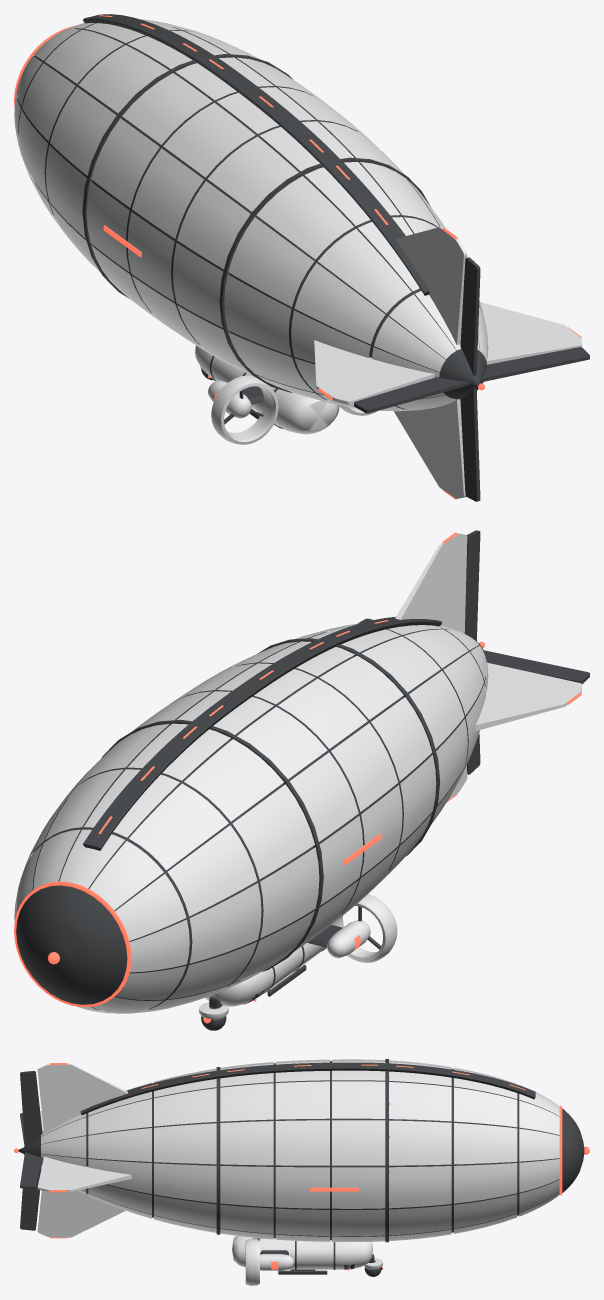
File: dirigible.glb
3 views of the same model, one above another, from view 1: azimuth 30°, elevation 25°; view 2: azimuth 150°, elevation 25°; view 3: azimuth 270°, elevation 25° (orthographic). The views are drawn at different scales.
Visible parts, largest first — view 1: cell_2, cell_1, cell_0, core; view 2: cell_0, cell_1, cell_2, core; view 3: cell_1, cell_2, cell_0, core.
Part boxes in pixels (x1,y1,x2,y2): cell_2: (224, 157, 589, 501); cell_1: (86, 53, 430, 392); cell_0: (14, 14, 293, 298); core: (195, 345, 377, 444); cell_0: (14, 719, 323, 1013); cell_1: (132, 637, 440, 951); cell_2: (294, 530, 589, 822); core: (205, 894, 397, 1008); cell_1: (216, 1059, 387, 1241); cell_2: (14, 1063, 218, 1238); cell_0: (385, 1059, 589, 1242); core: (232, 1236, 374, 1285).
Bounding box in the file's own units: 5.49 × 6.68 × 16.39.
